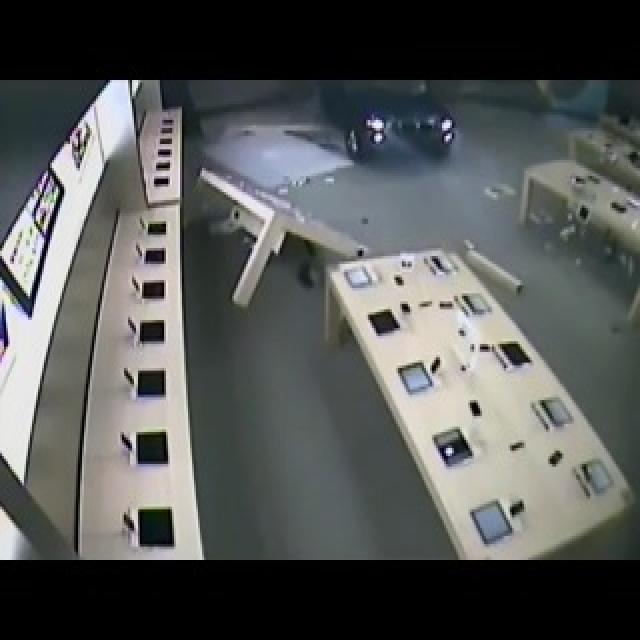burglary: (316, 78, 460, 170)
